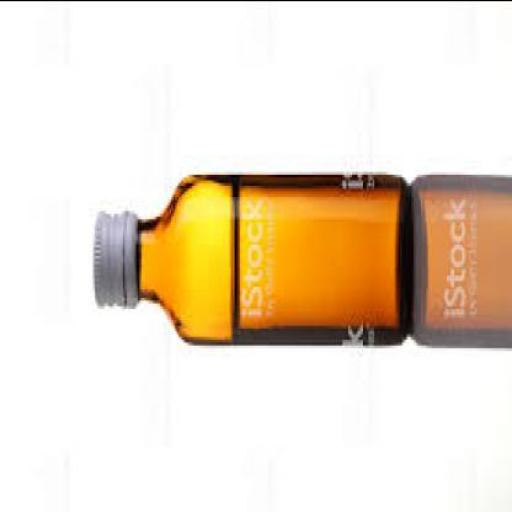glass: (134, 174, 414, 347)
metal: (91, 212, 134, 311)
